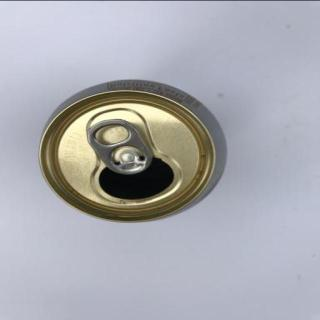Anorganik: (35, 77, 231, 224)
